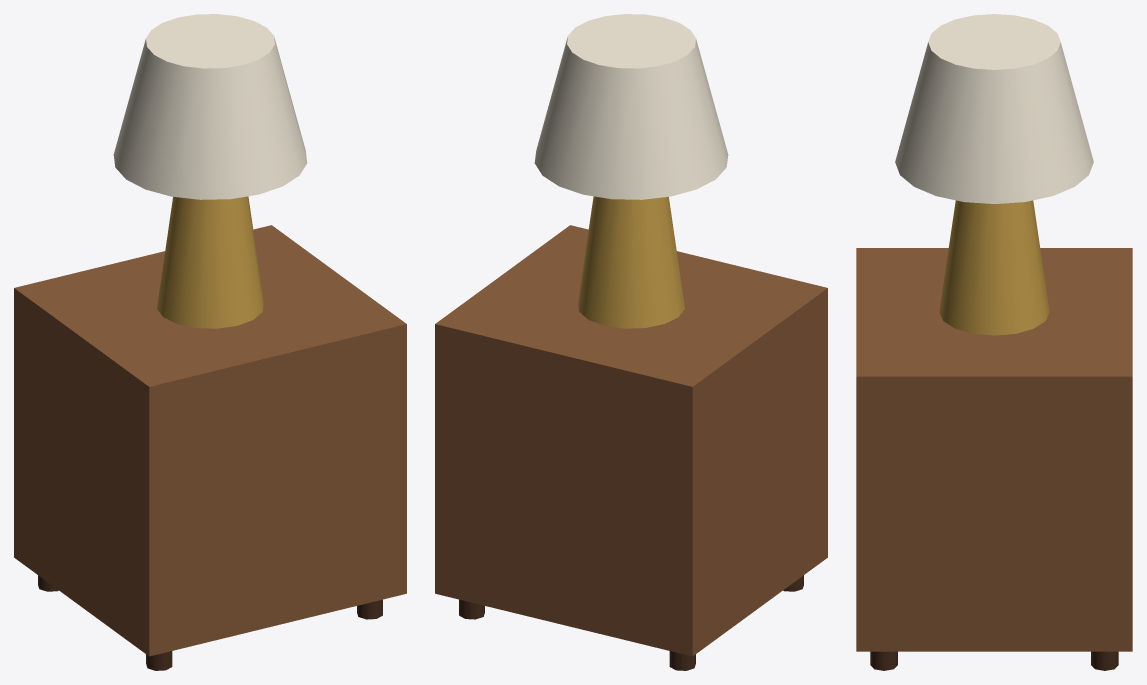
File: endTable.glb
The picture shows the model from 3 angles, left to right: view 1: azimuth 30°, elevation 25°; view 2: azimuth 150°, elevation 25°; view 3: azimuth 270°, elevation 25°; orthographic projection. The views are drawn at different scales.
Visible parts, largest first — view 1: endTable; view 2: endTable; view 3: endTable.
Part boxes in pixels (x1,y1,x2,y2): endTable: (14,14,406,670); endTable: (435,14,827,670); endTable: (856,14,1132,670).
Size of the model in its own units: 0.55 by 1.14 by 0.5.
